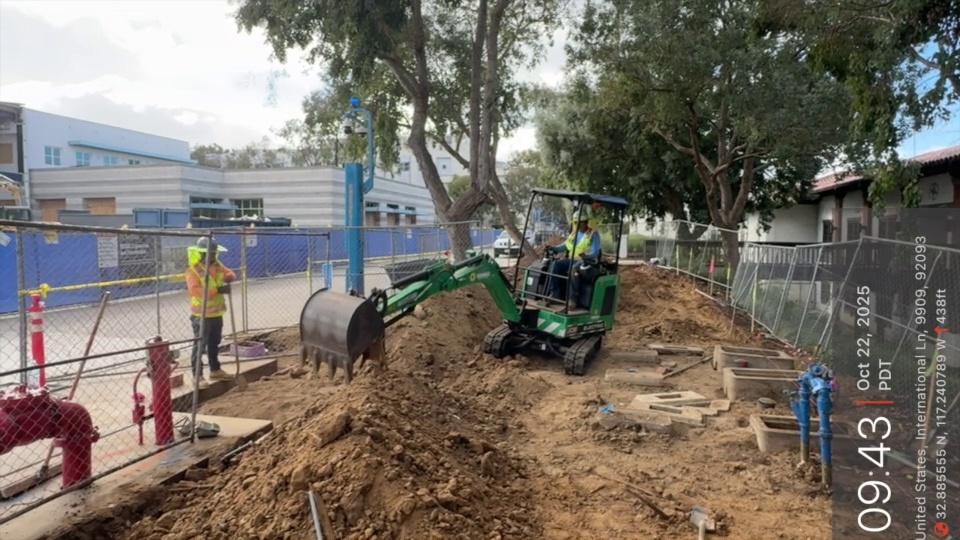Exacavator: (296, 186, 631, 384)
